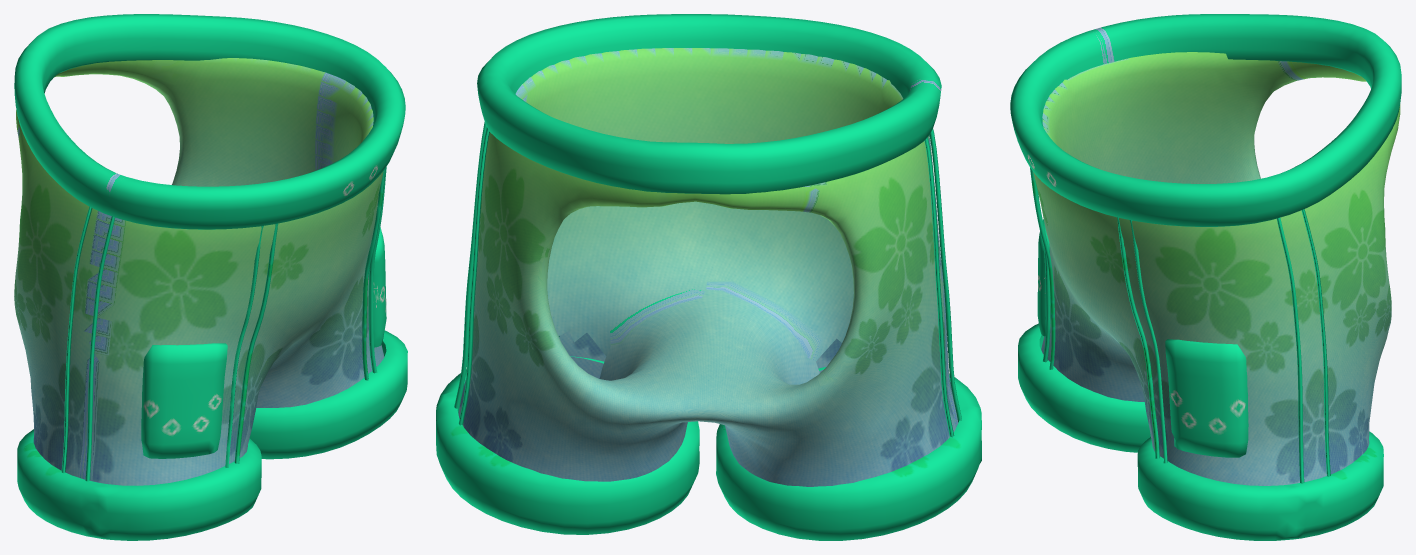
File: Cargo.glb
3 renders of one model, left to right at view 1: azimuth 30°, elevation 25°; view 2: azimuth 150°, elevation 25°; view 3: azimuth 270°, elevation 25°, orthographic. The views are drawn at different scales.
Visible parts, largest first — view 1: CARGO SHORTS; view 2: CARGO SHORTS; view 3: CARGO SHORTS.
Part boxes in pixels (x1,y1,x2,y2): CARGO SHORTS: [14, 14, 407, 540]; CARGO SHORTS: [436, 14, 981, 540]; CARGO SHORTS: [1010, 14, 1401, 540].
Size of the model in its own units: 1.03 by 0.9339 by 0.8667.
1 material, 1 textured.
